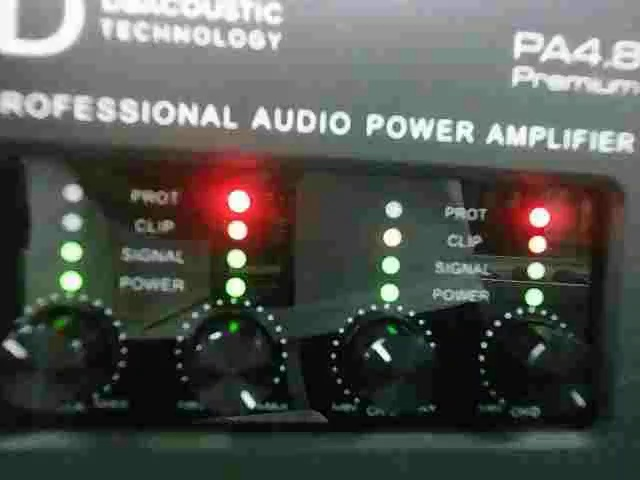A_CLIP_H: (134, 212, 252, 241), (378, 227, 485, 258), (443, 230, 552, 257)
A_CLIP_L: (56, 209, 177, 242)
A_PROT_H: (125, 175, 259, 212), (442, 196, 552, 229)
A_PROT_L: (59, 177, 184, 210), (380, 196, 492, 227)
A_PWR_H: (377, 280, 492, 315), (56, 269, 190, 299), (117, 272, 257, 300), (429, 281, 547, 312)
A_area: (52, 168, 263, 302), (376, 187, 558, 312)
